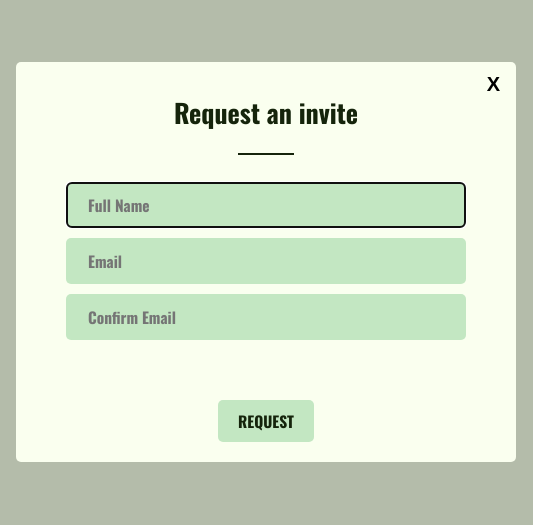
Test: SignUp component › displays validation errors on submit with invalid email
The image size is (533, 525).
Type "invalid-email" into the field with placeholder "Email" at (266, 260), box [66,238,466,284]
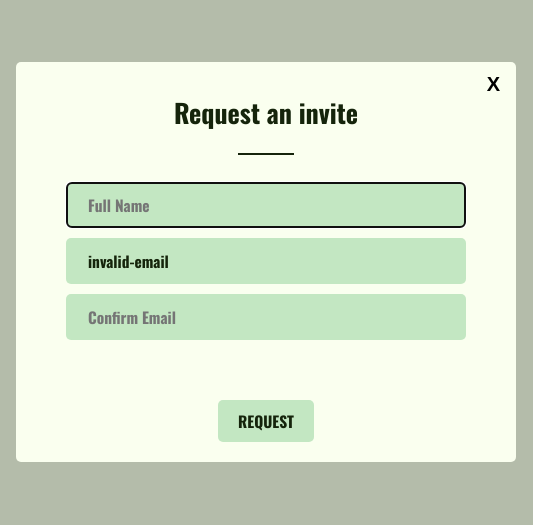
Click the button "Request" at (266, 420), box [218,400,314,442]
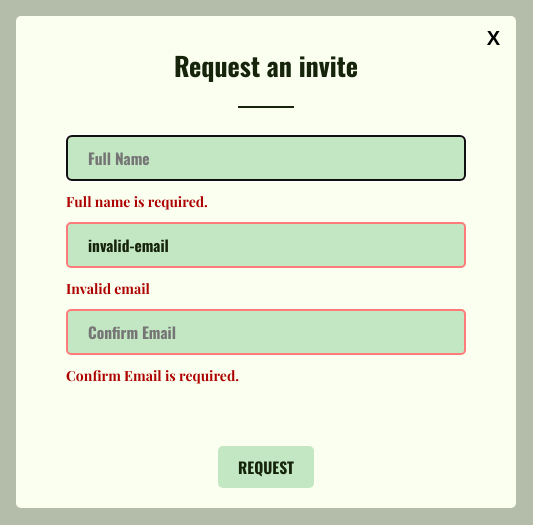
Now the text "Invalid email" is shown, box [66,279,150,298]
